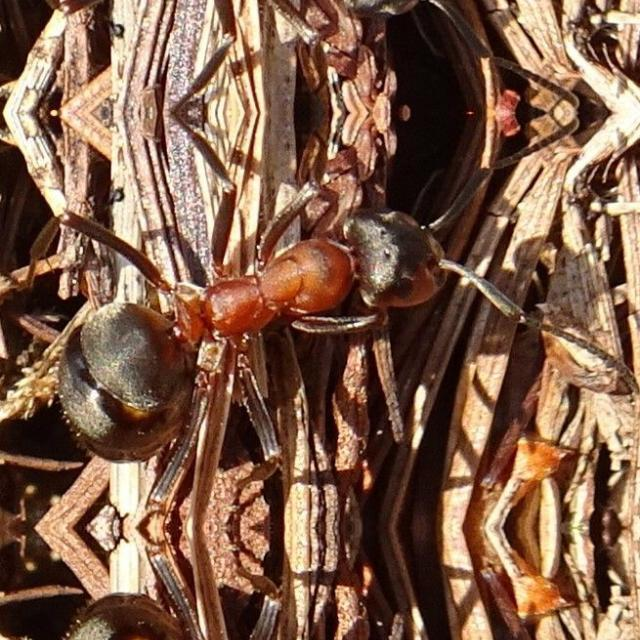Formica: (40, 178, 472, 462)
